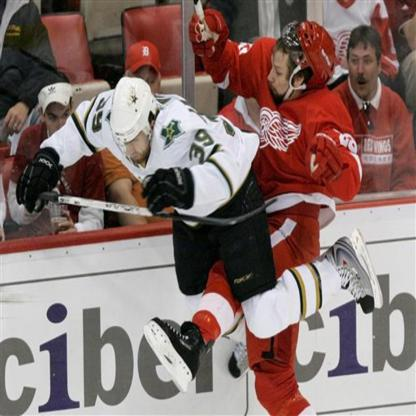face: (43, 98, 76, 146), (350, 47, 379, 99), (271, 49, 294, 102), (124, 122, 148, 168), (133, 65, 157, 111)
